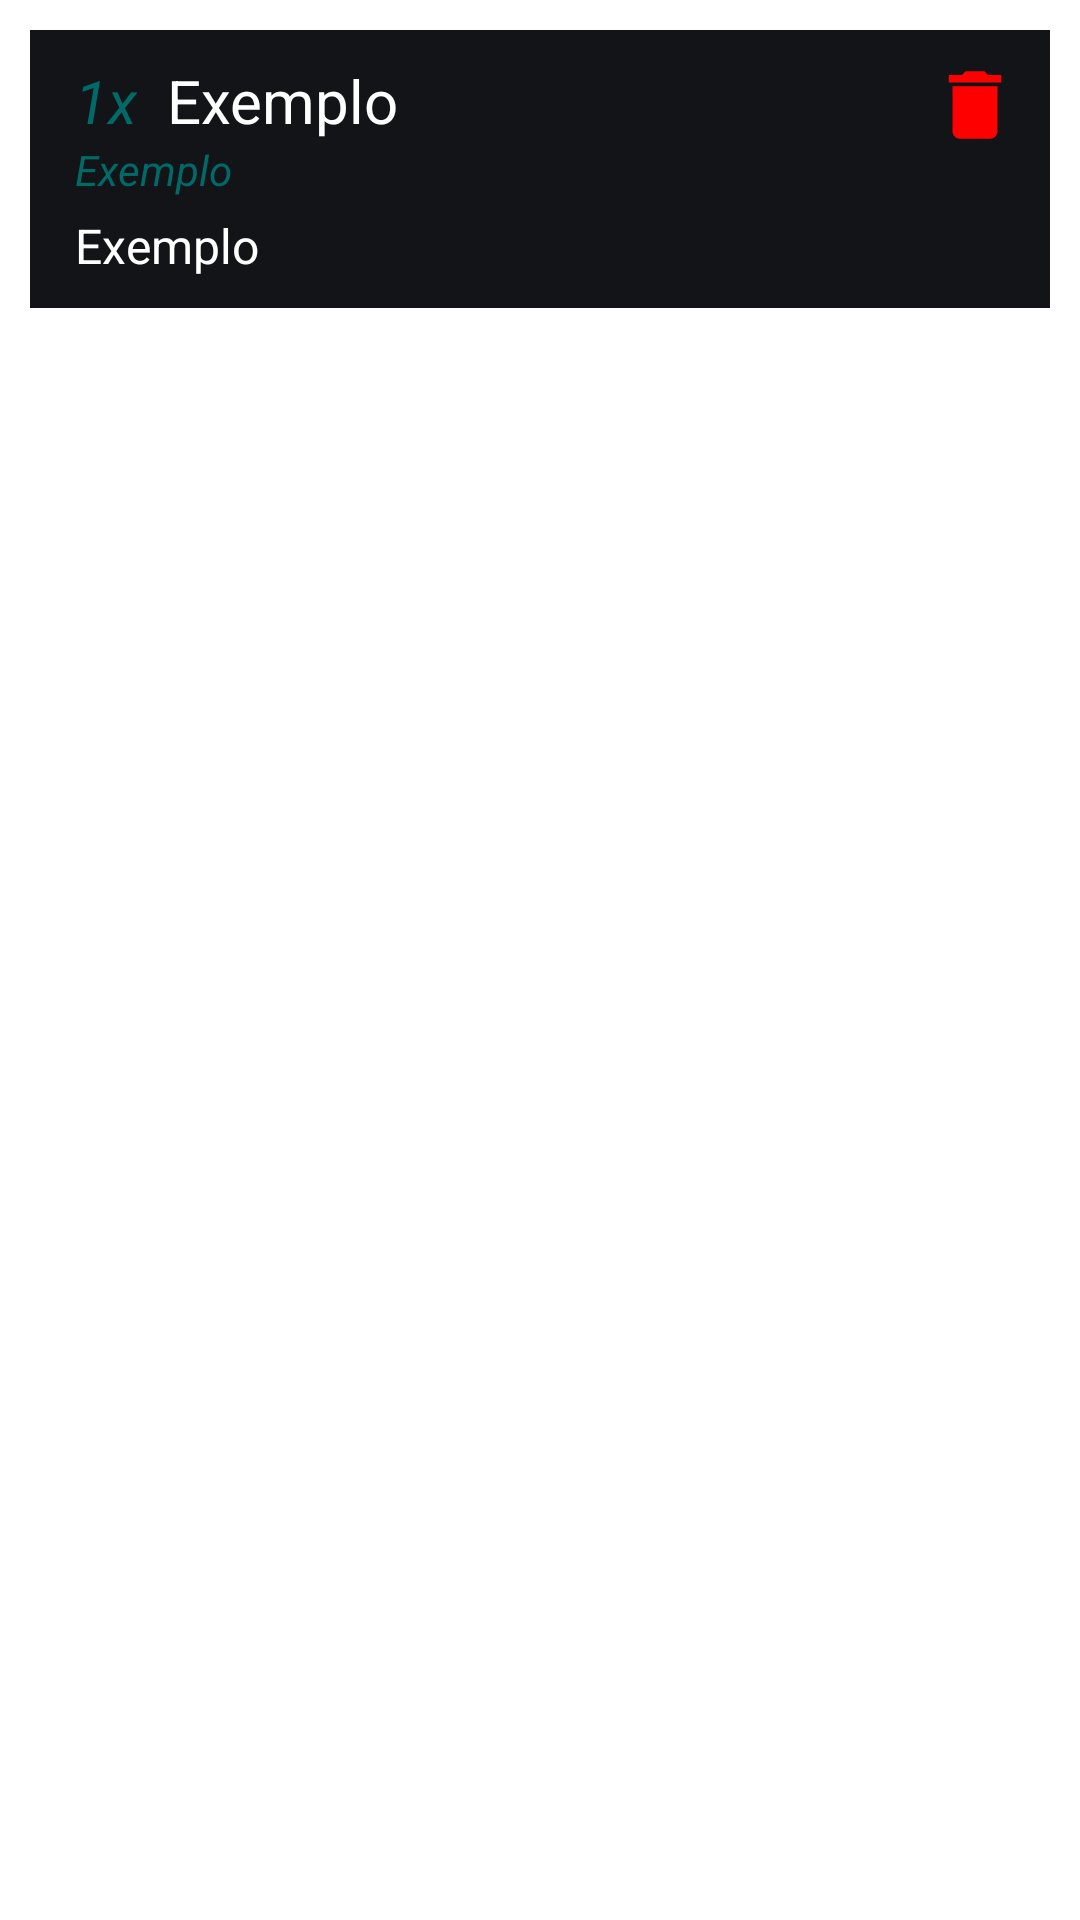

Named icons in this screenshot (1080 x 1920) and their bounding boxes, (x1, y1, x2, y2):
delete: (948, 71, 1002, 139)
